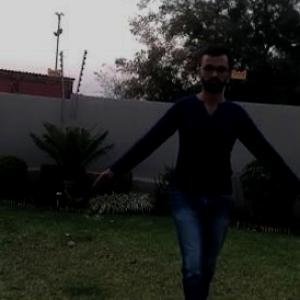land: (115, 56, 300, 299)
